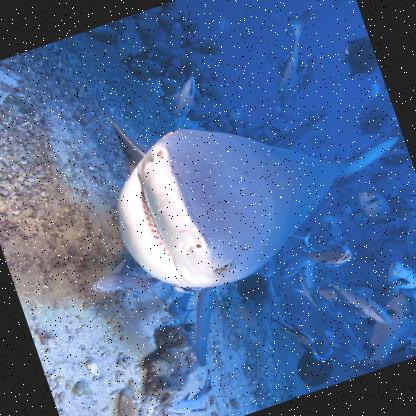bulldog-shark: (73, 5, 415, 375)
